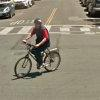Bicycle: (13, 36, 75, 86)
